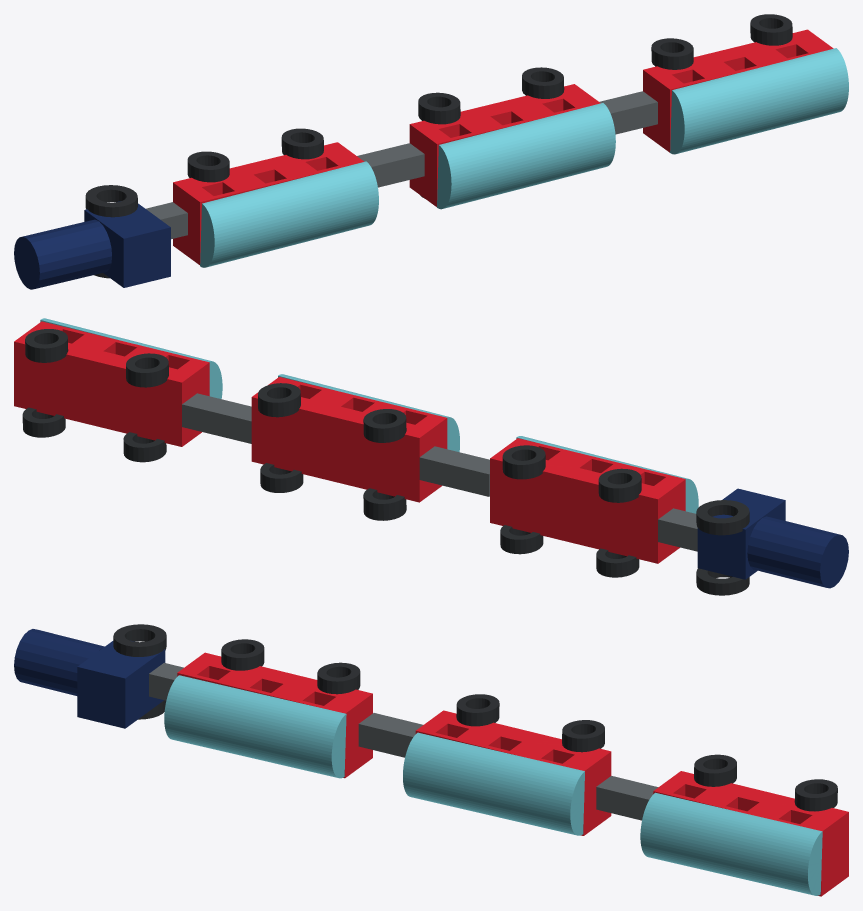
Rendered from tinker.obj.
3 renders of one model, top to bottom at view 1: azimuth 30°, elevation 25°; view 2: azimuth 150°, elevation 25°; view 3: azimuth 330°, elevation 25°, orthographic.
Visible parts, largest first — view 1: group_0_7720667, group_0_15277357, group_0_1650274, group_0_2829873, group_0_6383466; view 2: group_0_15277357, group_0_2829873, group_0_1650274, group_0_6383466, group_0_7720667; view 3: group_0_7720667, group_0_15277357, group_0_2829873, group_0_1650274, group_0_6383466.
Part boxes in pixels (left/top/right/bottom): group_0_7720667: left=200, top=48, right=848, bottom=267; group_0_15277357: left=173, top=29, right=833, bottom=264; group_0_1650274: left=14, top=201, right=170, bottom=289; group_0_2829873: left=85, top=14, right=792, bottom=278; group_0_6383466: left=146, top=91, right=657, bottom=239; group_0_15277357: left=14, top=321, right=685, bottom=563; group_0_2829873: left=22, top=329, right=749, bottom=595; group_0_1650274: left=697, top=488, right=848, bottom=588; group_0_6383466: left=182, top=393, right=697, bottom=551; group_0_7720667: left=40, top=318, right=698, bottom=513; group_0_7720667: left=164, top=675, right=822, bottom=895; group_0_15277357: left=177, top=652, right=848, bottom=896; group_0_2829873: left=113, top=624, right=837, bottom=811; group_0_1650274: left=14, top=629, right=165, bottom=728; group_0_6383466: left=149, top=662, right=658, bottom=820.
Bounding box in the file's own units: 338 × 37 × 40.09.
